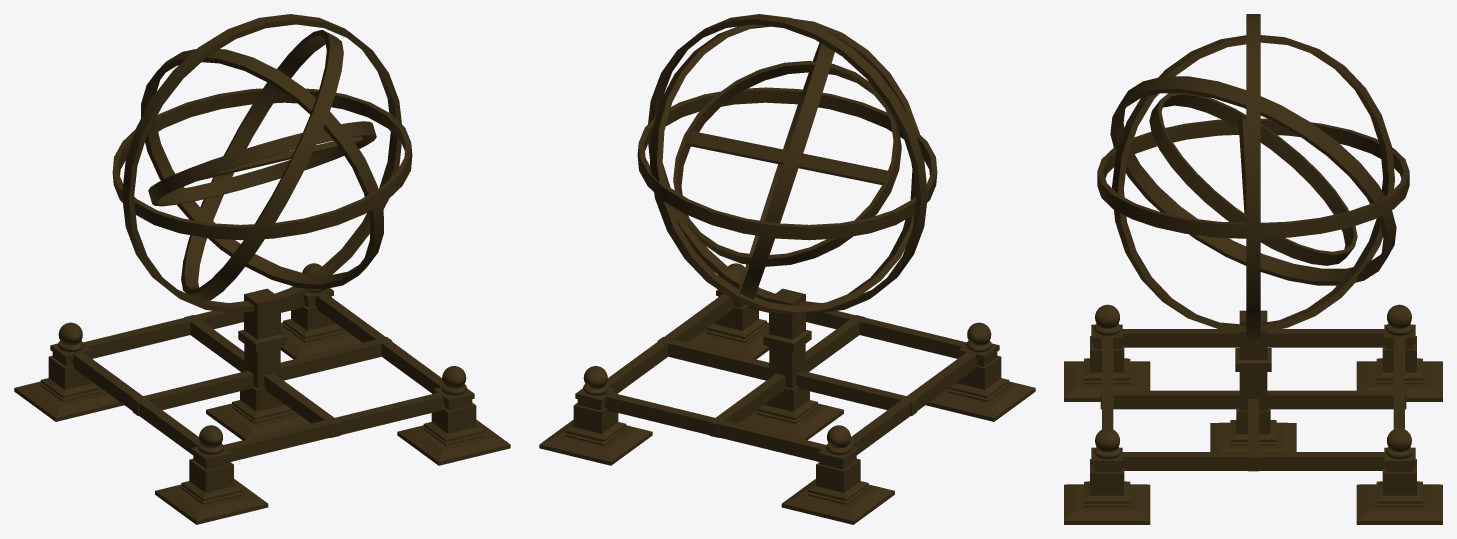
File: 浑天仪.fbx
3 views of the same model, side by side, from view 1: azimuth 30°, elevation 25°; view 2: azimuth 150°, elevation 25°; view 3: azimuth 270°, elevation 25° (orthographic). The views are drawn at different scales.
Parts seen in each view (by area): view 1: Box011, Circle004, Circle001, Circle002, Circle006, Circle007, Box001; view 2: Box011, Circle002, Circle001, Circle004, Circle007, Circle006, Box001; view 3: Box011, Circle004, Circle002, Circle006, Circle007, Circle001, Box001.
Part boxes in pixels (box(x1,y1,x2,y2)): Box011: box(14, 263, 510, 524); Circle004: box(181, 30, 343, 302); Circle001: box(122, 14, 401, 313); Circle002: box(112, 88, 412, 240); Circle006: box(141, 49, 383, 289); Circle007: box(148, 121, 376, 206); Box001: box(198, 136, 363, 180); Box011: box(539, 263, 1035, 524); Circle002: box(637, 87, 937, 240); Circle001: box(648, 14, 927, 313); Circle004: box(650, 19, 919, 314); Circle007: box(673, 61, 901, 266); Circle006: box(735, 30, 839, 306); Box001: box(687, 131, 887, 184); Box011: box(1064, 304, 1442, 524); Circle004: box(1110, 76, 1396, 285); Circle002: box(1097, 118, 1409, 238); Circle006: box(1112, 35, 1394, 332); Circle007: box(1149, 93, 1357, 265); Circle001: box(1246, 14, 1260, 343); Box001: box(1238, 117, 1246, 214).
Size of the model in its own units: 25596 by 31116 by 25700.
